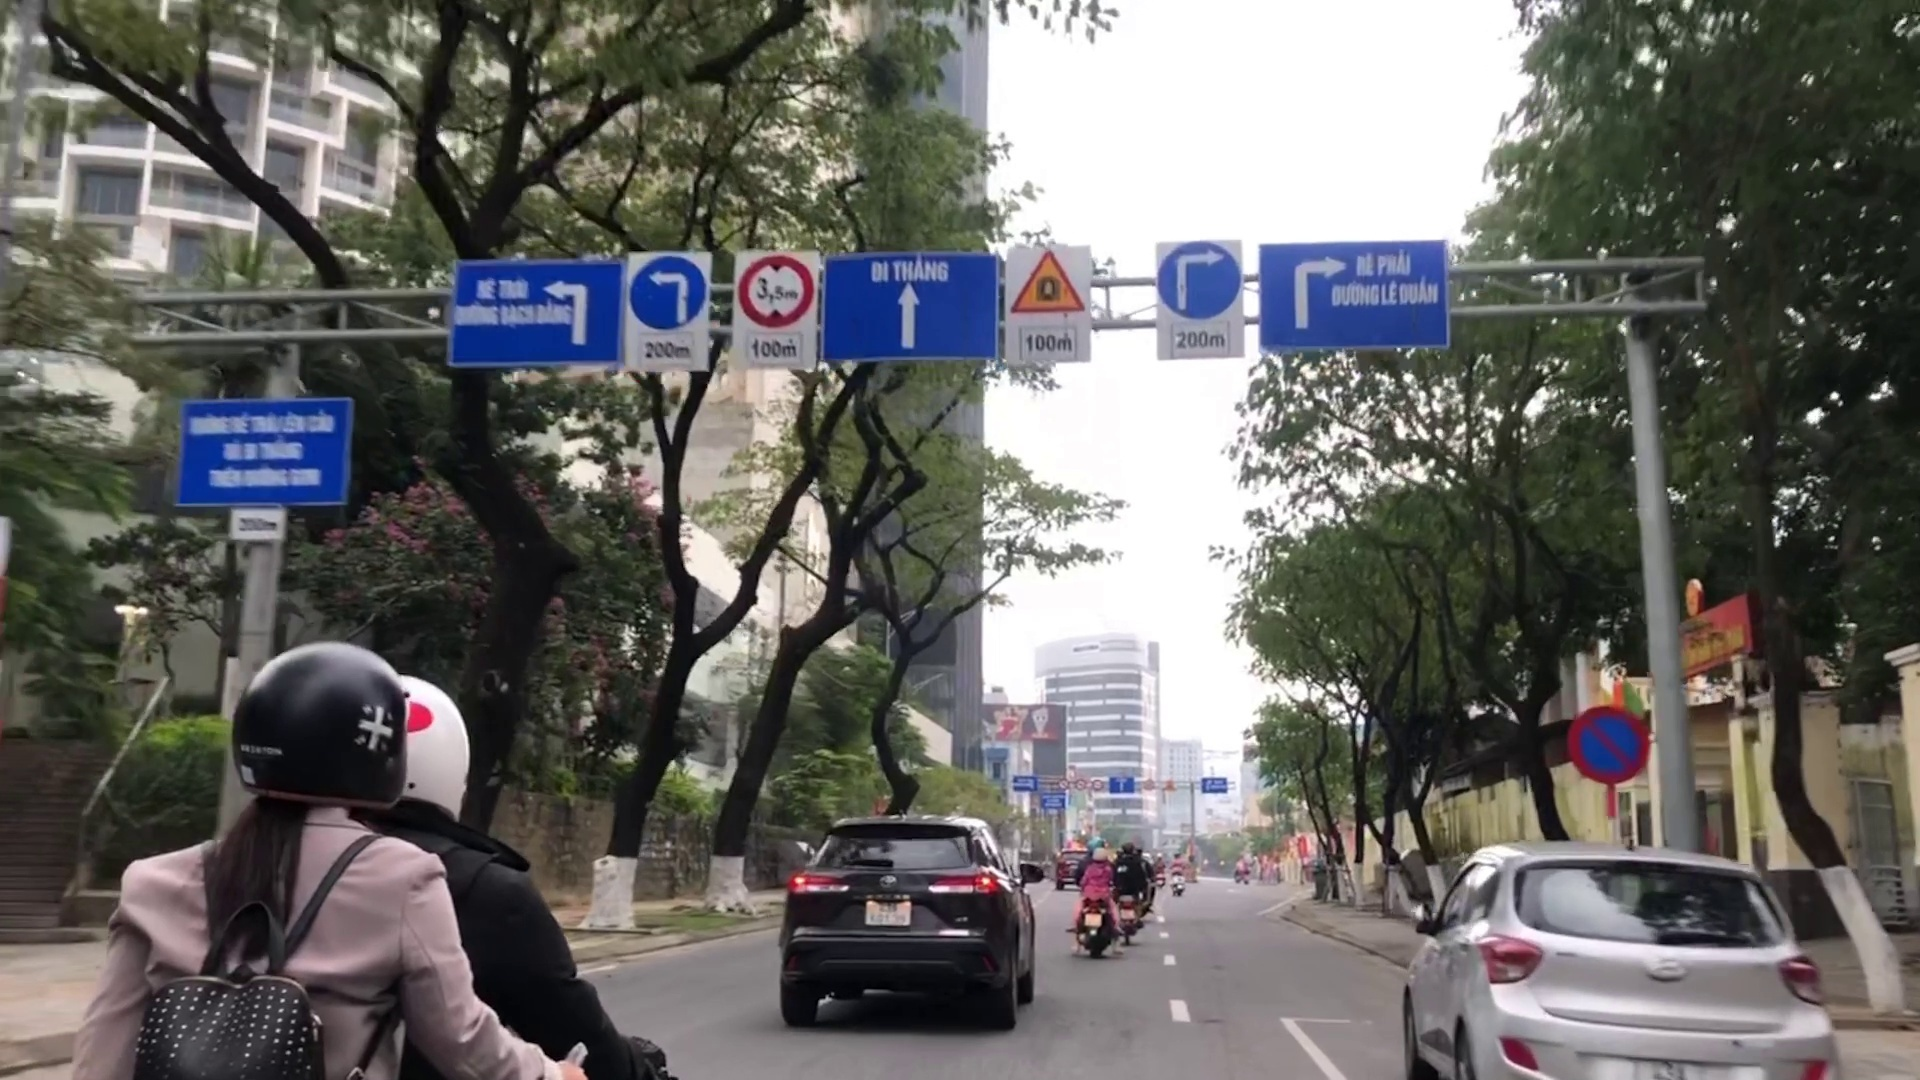Cam do xe: (1569, 702, 1648, 785)
